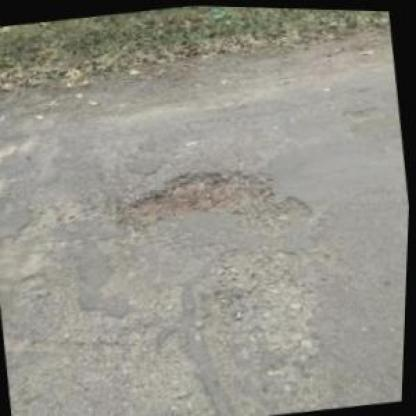pothole: (111, 148, 320, 250)
